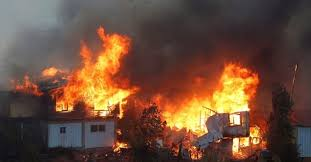fire: (79, 28, 131, 116), (212, 60, 255, 111), (152, 97, 209, 134)
smoke: (148, 11, 302, 56), (7, 12, 75, 59), (141, 44, 206, 83)
